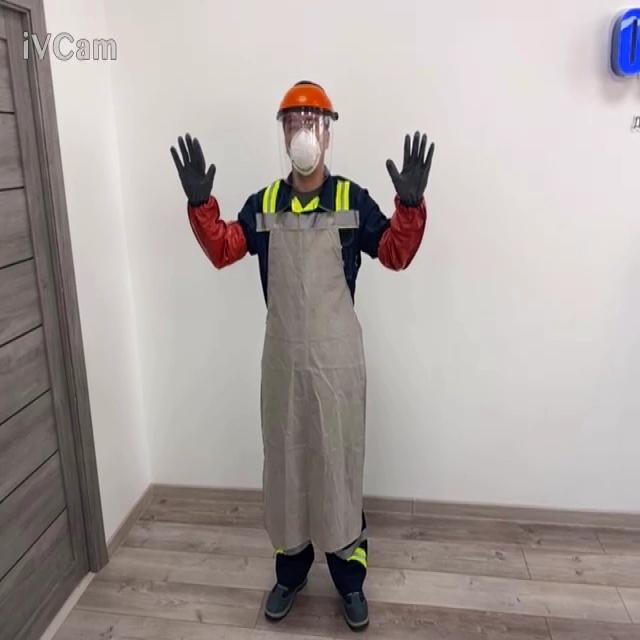Gloves: (385, 129, 434, 207), (169, 132, 215, 207)
Mask: (287, 125, 322, 176)
Protective apron: (255, 205, 367, 555)
Safety Shoes: (264, 574, 307, 618), (341, 588, 369, 628)
Sleeve: (186, 193, 247, 270), (377, 193, 426, 271)
